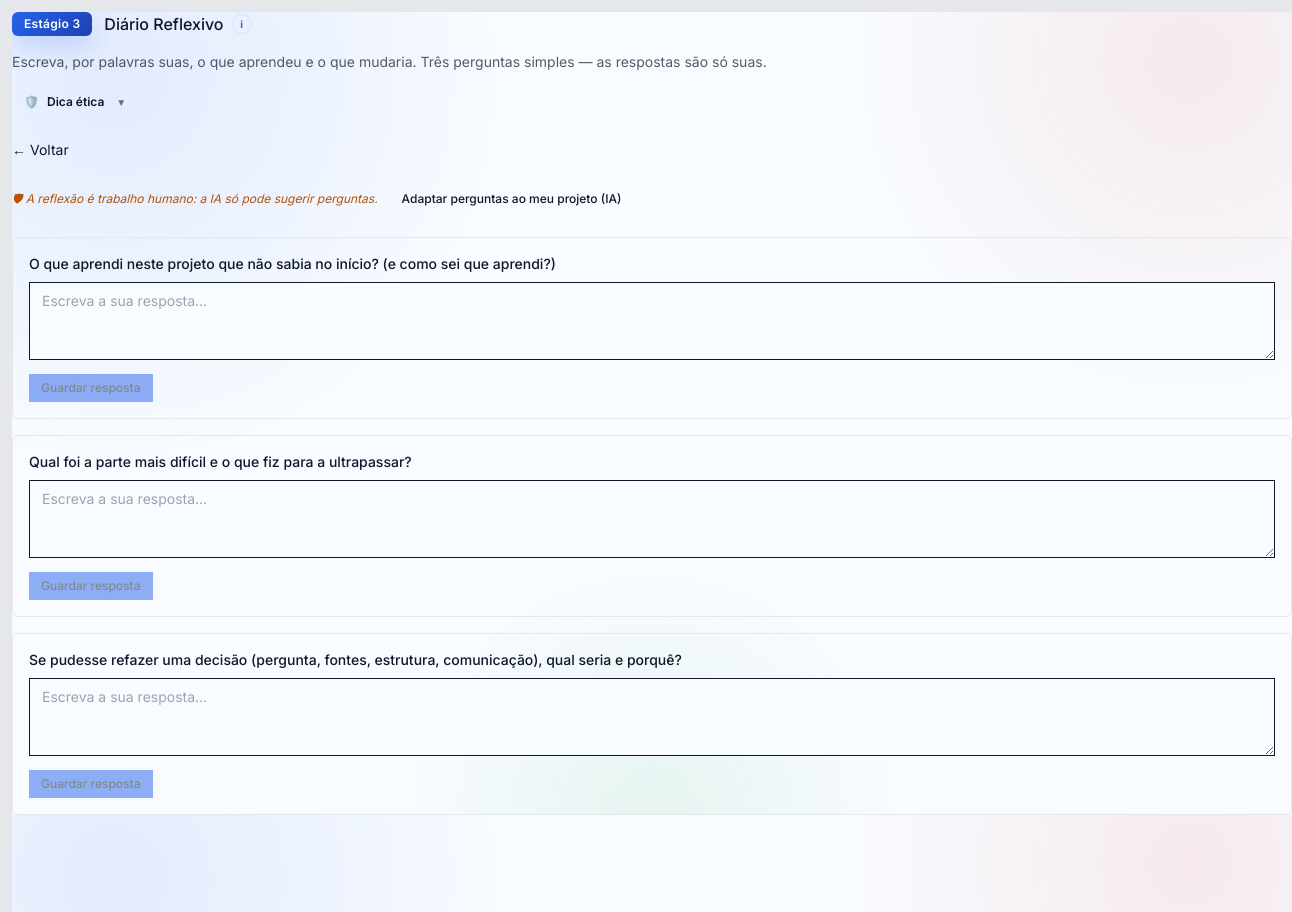
it: Reflective journal › keeps the default questions when the AI fails
The width and height of the screenshot is (1292, 912).
Click the button "Adaptar perguntas ao meu projeto (IA)".
click(512, 199)  # box [390,185,633,213]
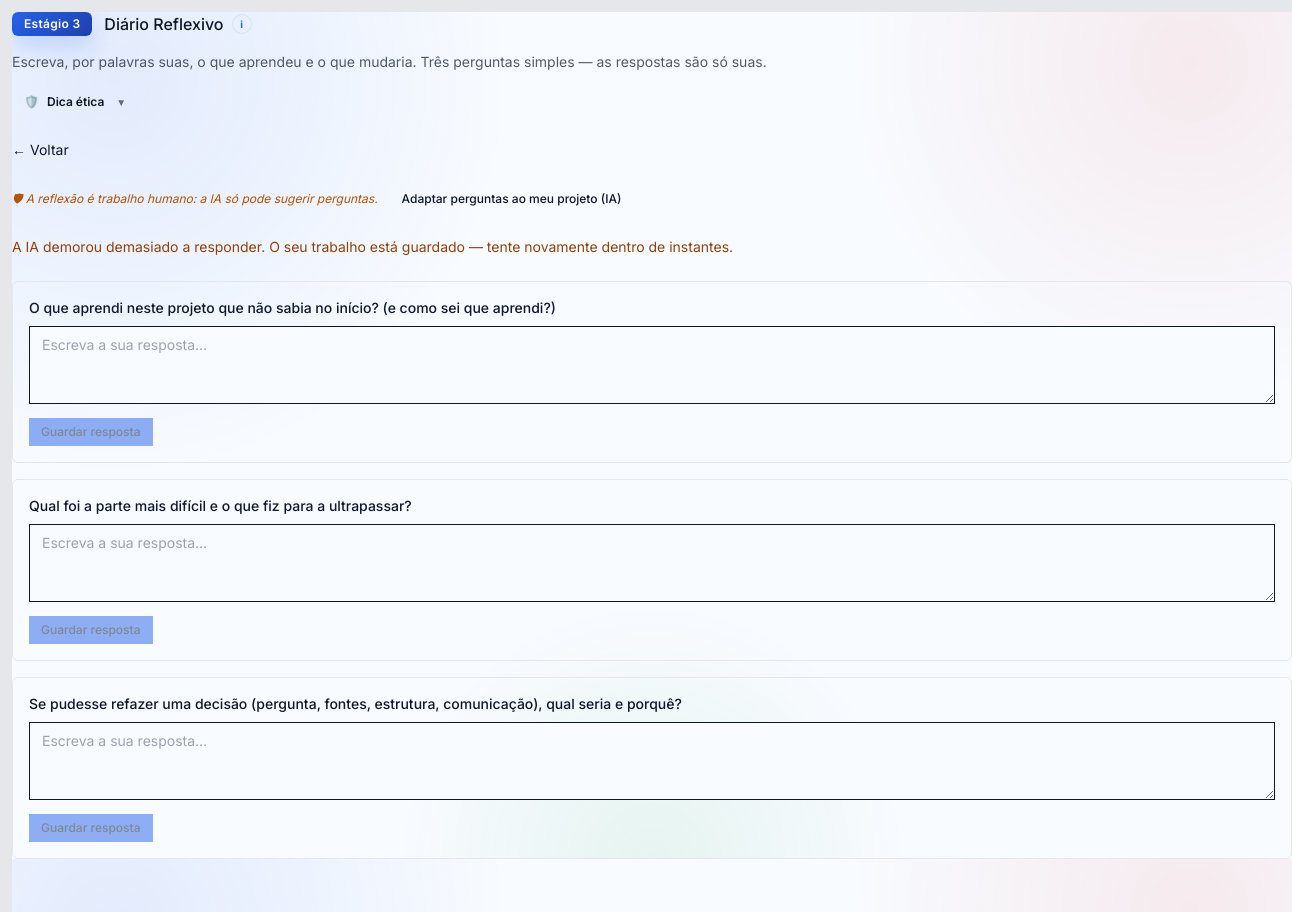
Expected: the number of text boxes is 3, [29,326,1275,404]; [29,524,1275,602]; [29,722,1275,800]
Expected: the message is shown, [12,238,733,255]
